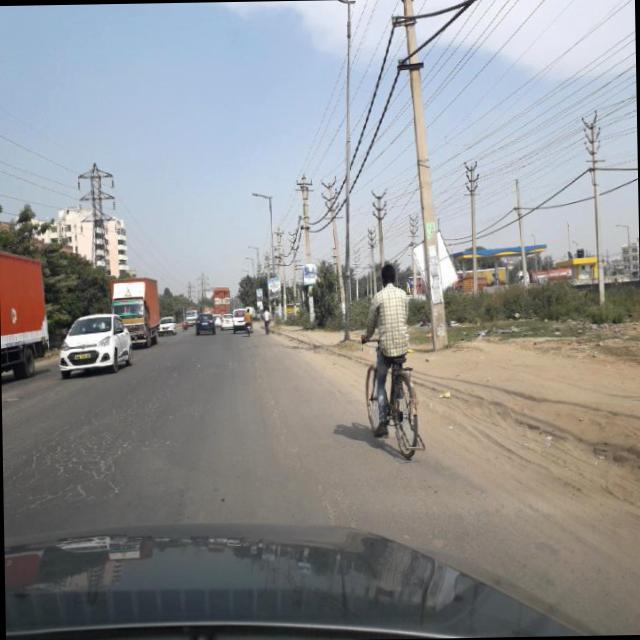crack: (19, 402, 158, 507)
pothole: (285, 432, 332, 516), (238, 350, 285, 432)
